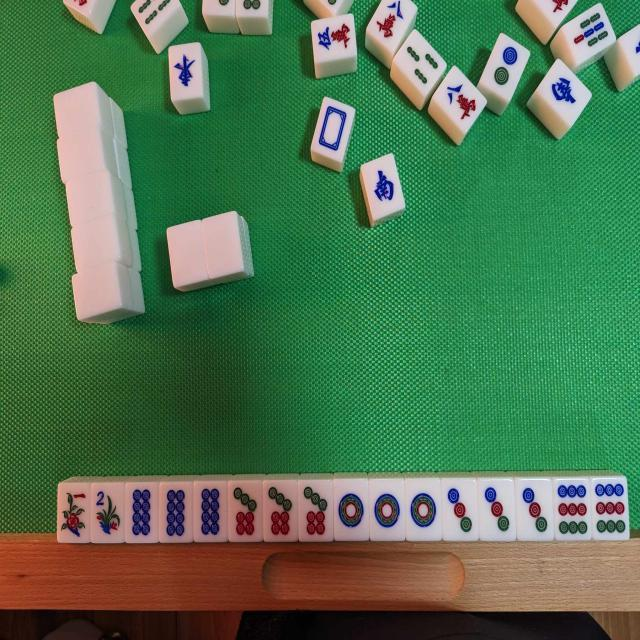bf2: (91, 483, 122, 542)
bs1: (58, 485, 88, 543)
sd1: (334, 478, 370, 540), (406, 478, 442, 539), (370, 479, 406, 539)
sd3: (518, 480, 554, 540), (479, 478, 515, 538), (443, 478, 478, 539)
sd7: (299, 480, 334, 540), (230, 483, 264, 543), (265, 480, 299, 540)
sd8: (195, 482, 229, 542), (128, 483, 160, 542), (163, 483, 194, 542)
sd9: (555, 479, 591, 542), (594, 478, 630, 538)
